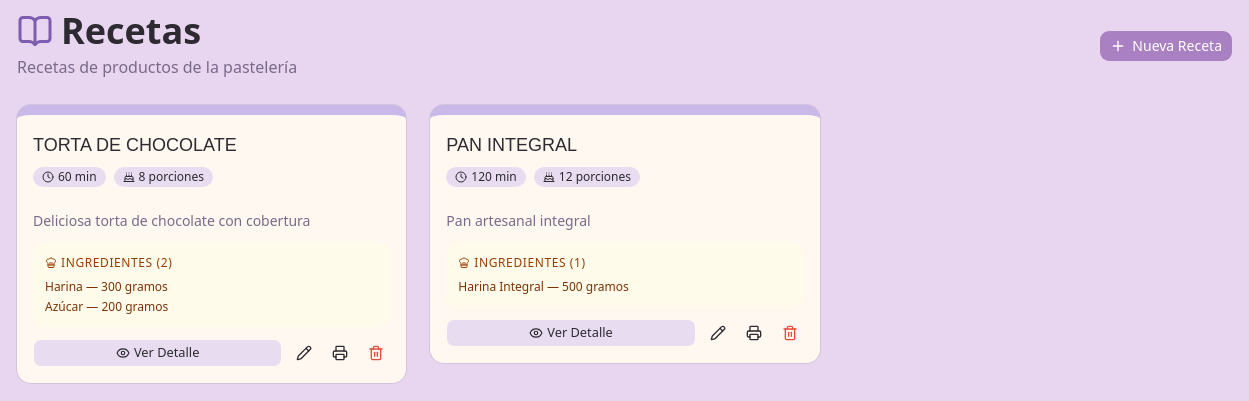
Test: Recetas Component › deletes a recipe via API on confirm
Expected: the text "Torta de Chocolate" is shown, [33,135,237,155]
Click the button titled "Eliminar" below "200".
click(376, 353)  # box [362,339,390,367]
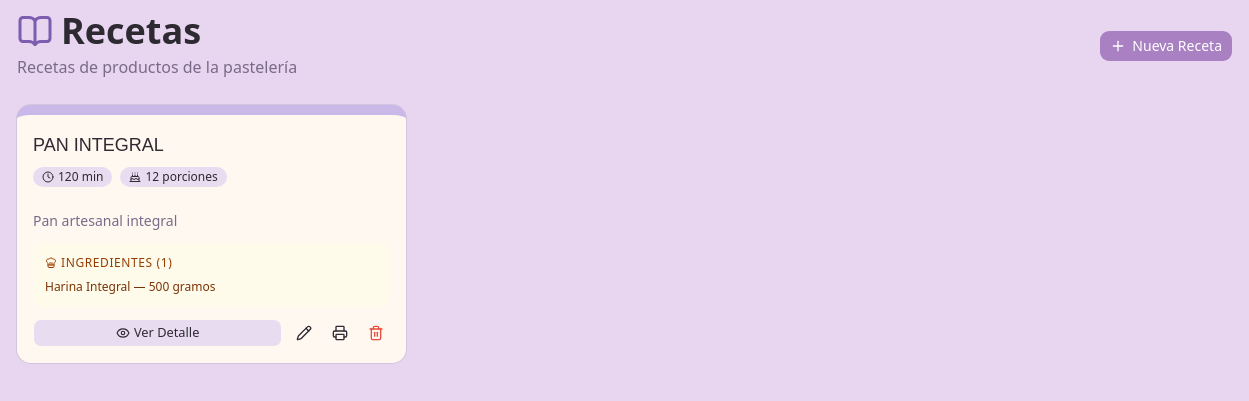
Expected: the text "Torta de Chocolate" is gone
